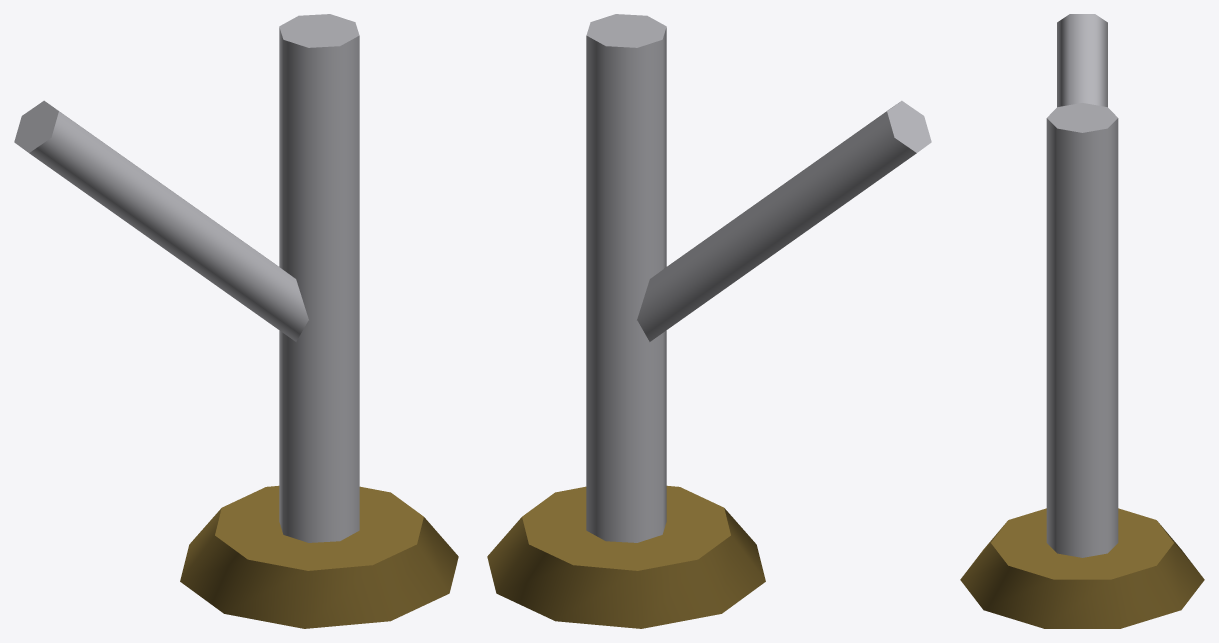
The model's file is lander_leg.glb.
3 views of the same model, side by side, from view 1: azimuth 30°, elevation 25°; view 2: azimuth 150°, elevation 25°; view 3: azimuth 270°, elevation 25° (orthographic). The views are drawn at different scales.
Parts seen in each view (by area): view 1: lander_leg; view 2: lander_leg; view 3: lander_leg.
Boxes of the visible parts, x1=… form: lander_leg: x1=14, y1=14, x2=458, y2=628; lander_leg: x1=487, y1=14, x2=931, y2=628; lander_leg: x1=960, y1=14, x2=1204, y2=628.
Bounding box in the file's own units: 0.8074 × 1 × 0.48.
